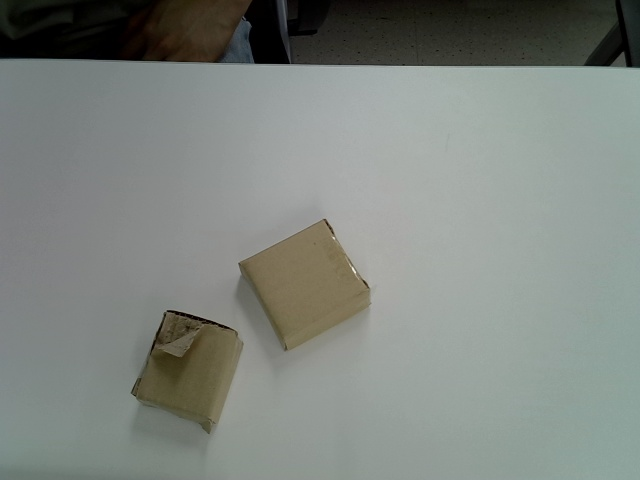defect: (131, 310, 244, 433)
normal: (238, 218, 374, 352)
